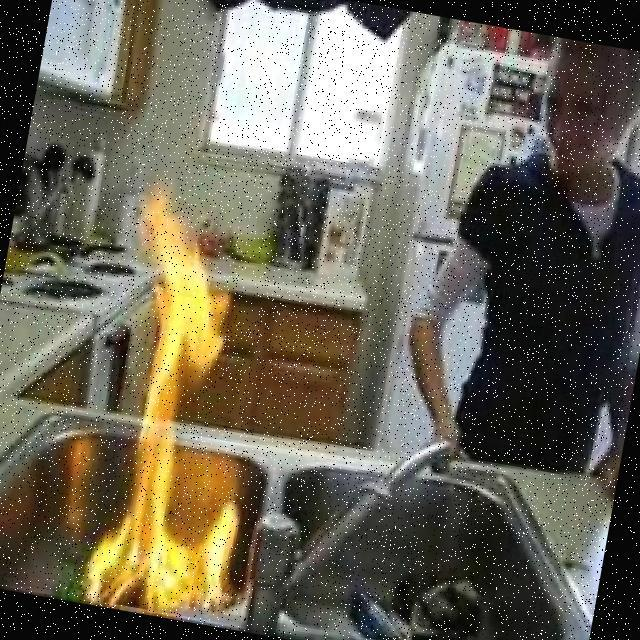Fire: (72, 191, 294, 619)
